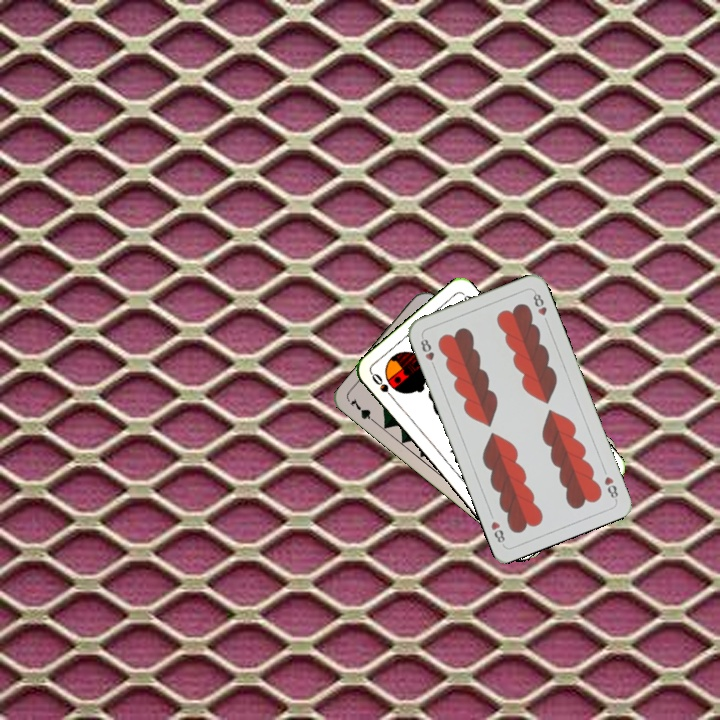G7: (346, 394, 380, 427)
H8: (416, 332, 438, 371), (600, 472, 621, 503)
SO: (367, 369, 398, 403)
